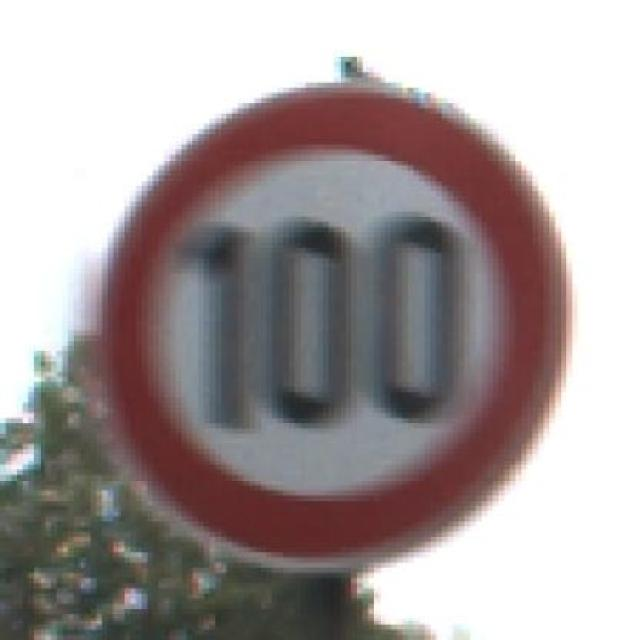forb_speed_over_100: (100, 87, 554, 565)
